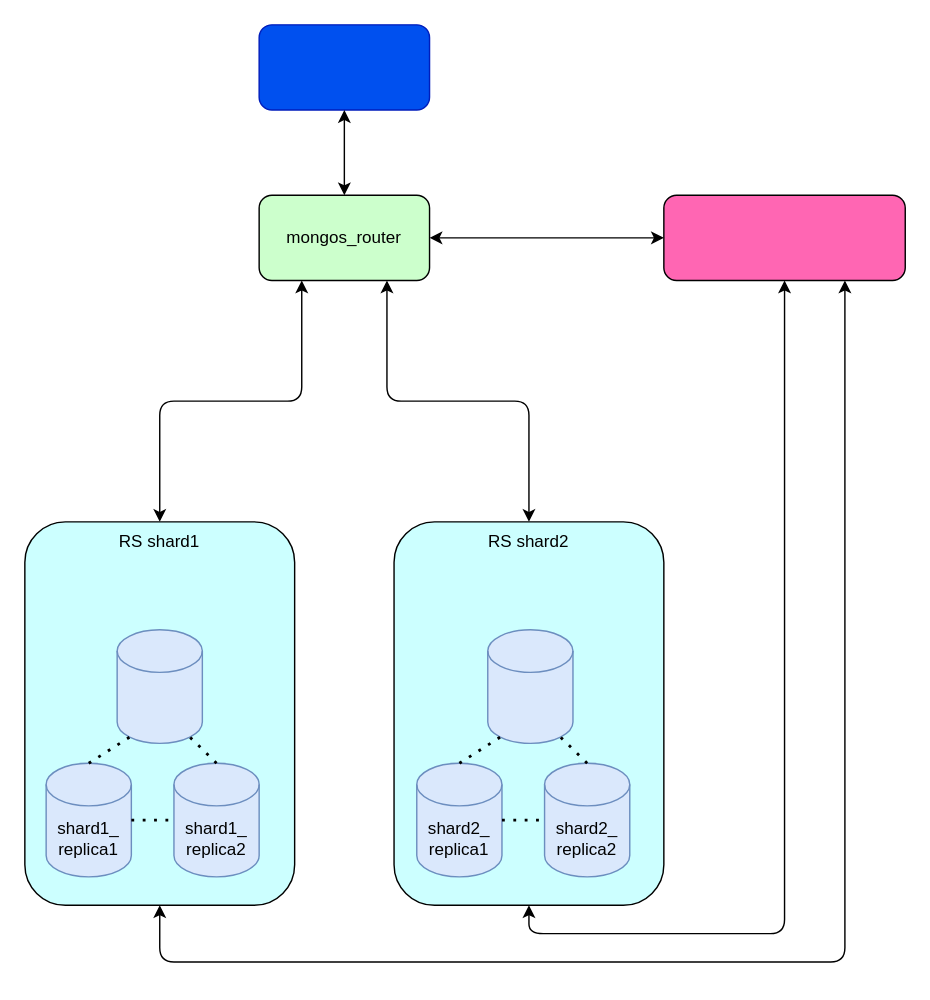
This 930x1000 diagram has some shape labels left out. Each missing label, with the centre of its shape:
configSrv Конфигурационный сервер: point 783,237
pymongo-api Приложение: point 344,66
shard1: point 159,685
shard2: point 529,685
